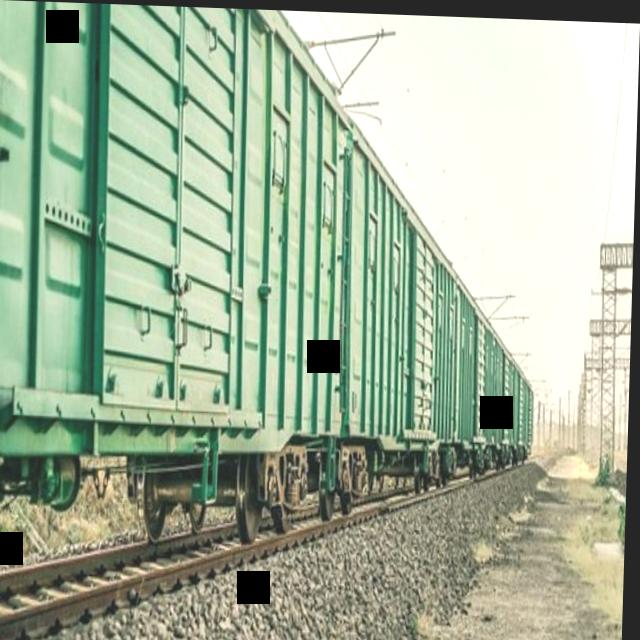boxcar: (0, 0, 353, 554), (342, 104, 466, 522)
